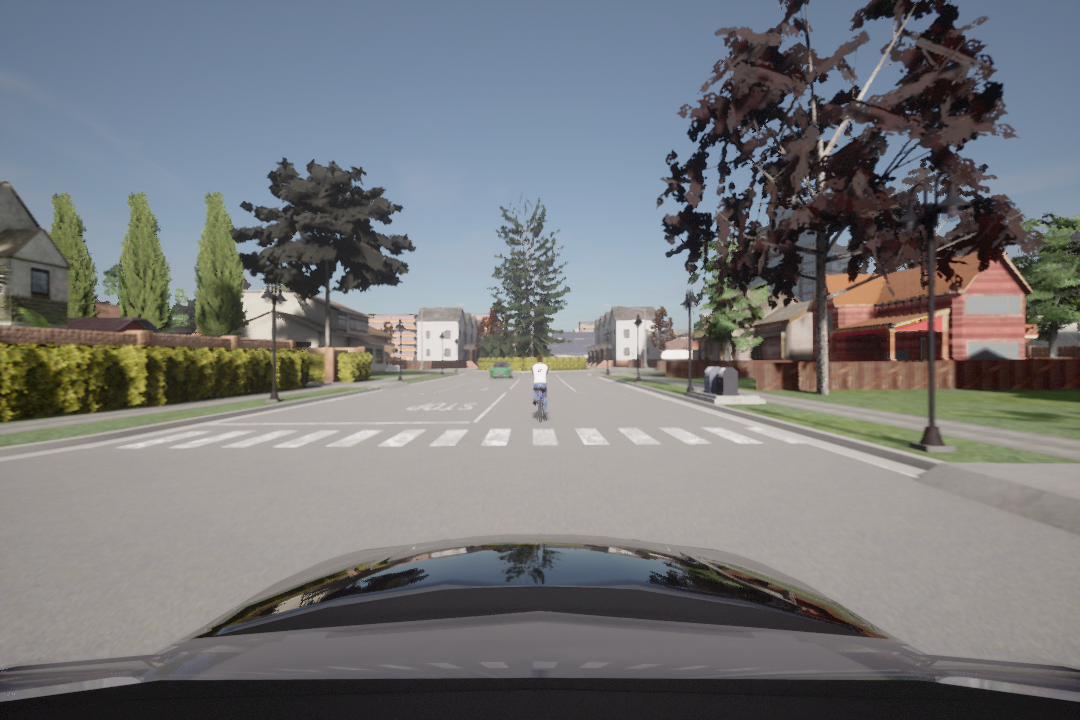walkside: (112, 424, 804, 449)
